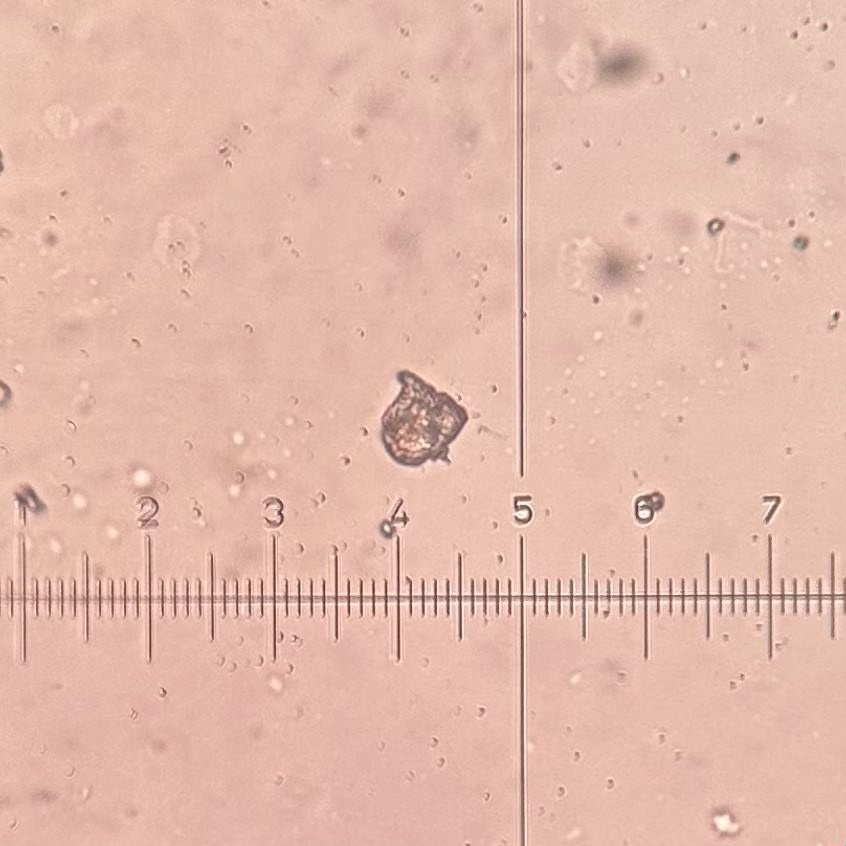not_microplastic: (381, 367, 467, 472), (704, 211, 768, 277), (151, 213, 206, 270), (566, 238, 613, 295), (565, 38, 601, 90), (18, 480, 46, 512), (711, 810, 740, 835), (130, 468, 160, 492)
